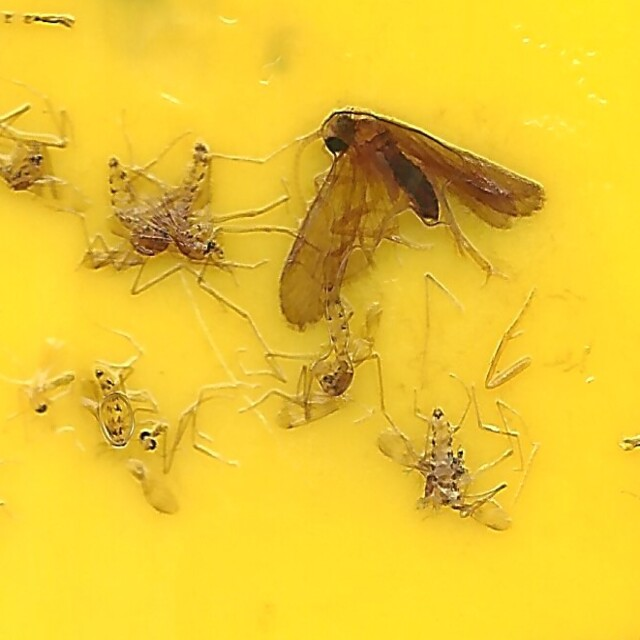Nematocera: (377, 409, 507, 535), (292, 274, 381, 425), (97, 148, 183, 267), (165, 135, 233, 279)
Trichoptera: (282, 105, 543, 326)
